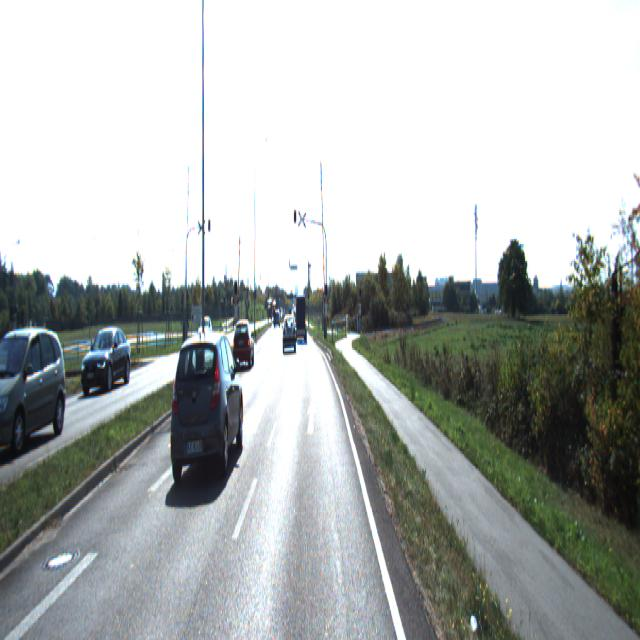Car: (168, 317, 244, 489), (0, 318, 69, 458), (80, 326, 132, 396), (232, 320, 254, 371), (296, 296, 306, 344), (283, 318, 296, 354), (197, 314, 212, 345)
